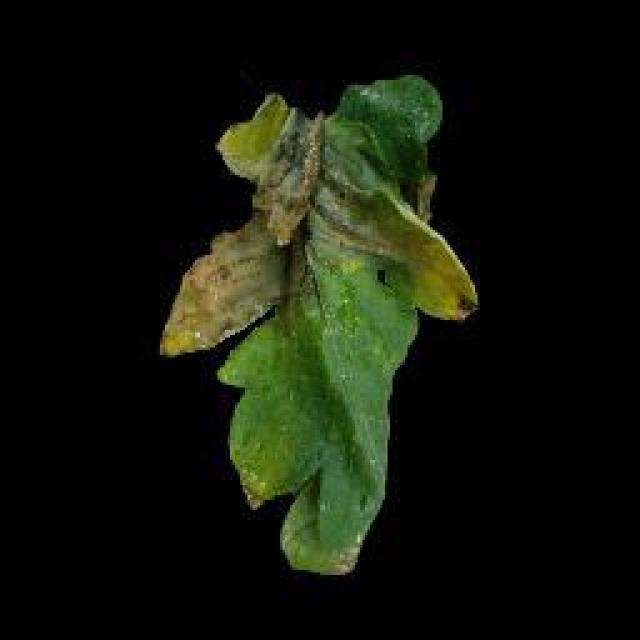Tomato Late Blight: (203, 63, 457, 365)
